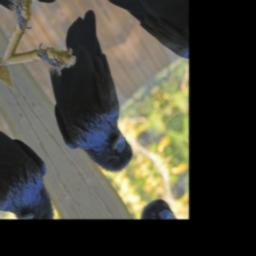Crow: (15, 4, 170, 193)
